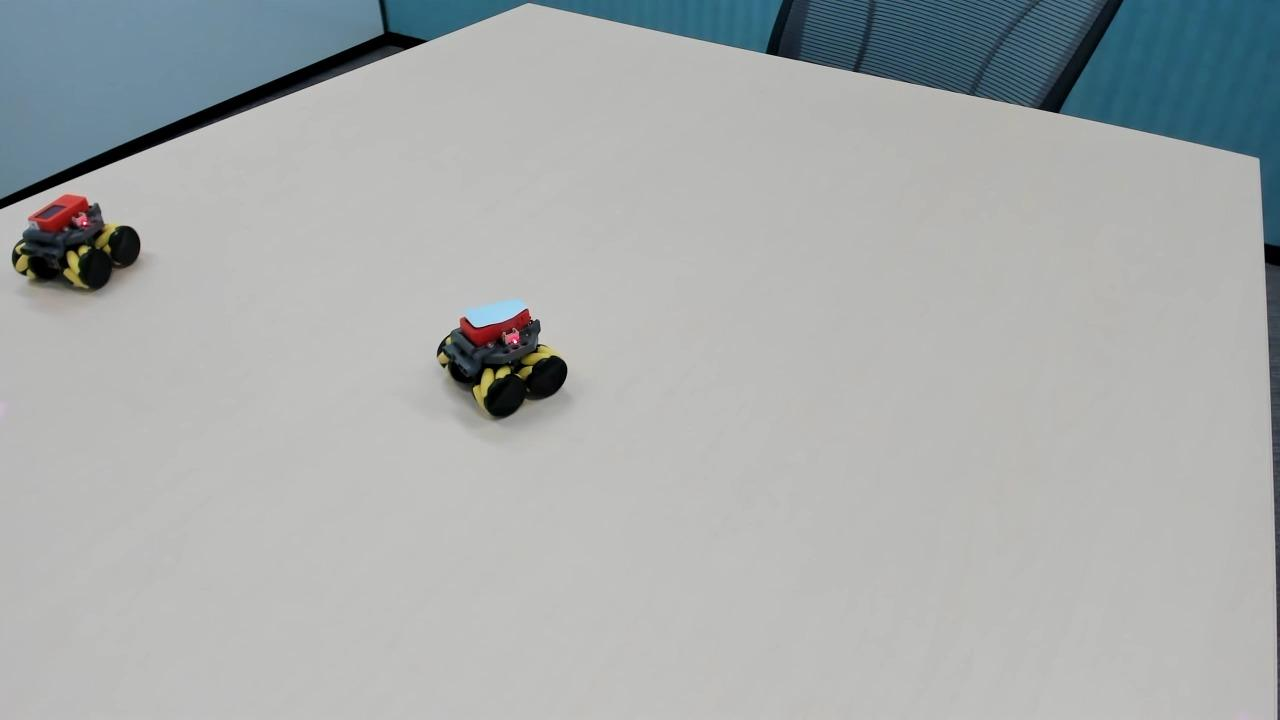B-Robot: (421, 294, 583, 421)
R-Robot: (4, 188, 154, 300)
